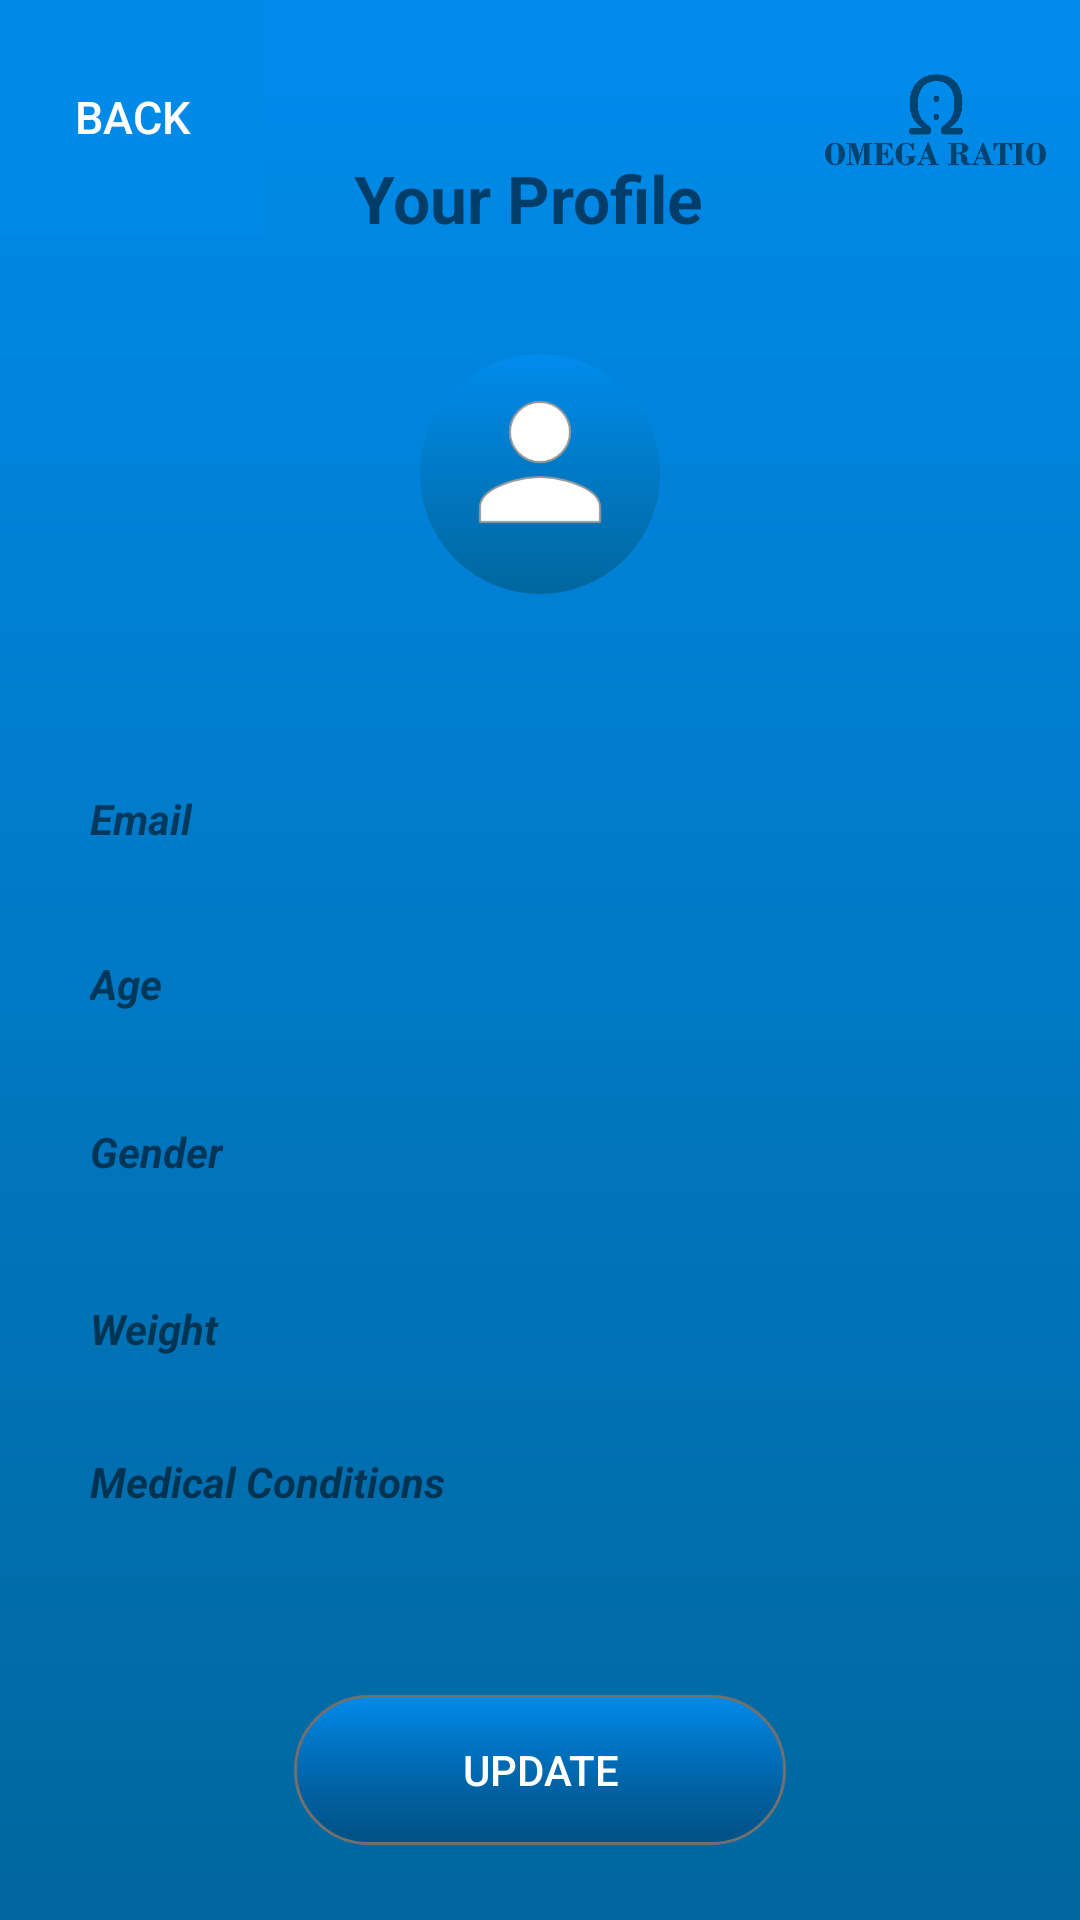

Named icons in this screenshot (1080 × 1920) and their centers, (x,y):
profilepic: (540,497)
